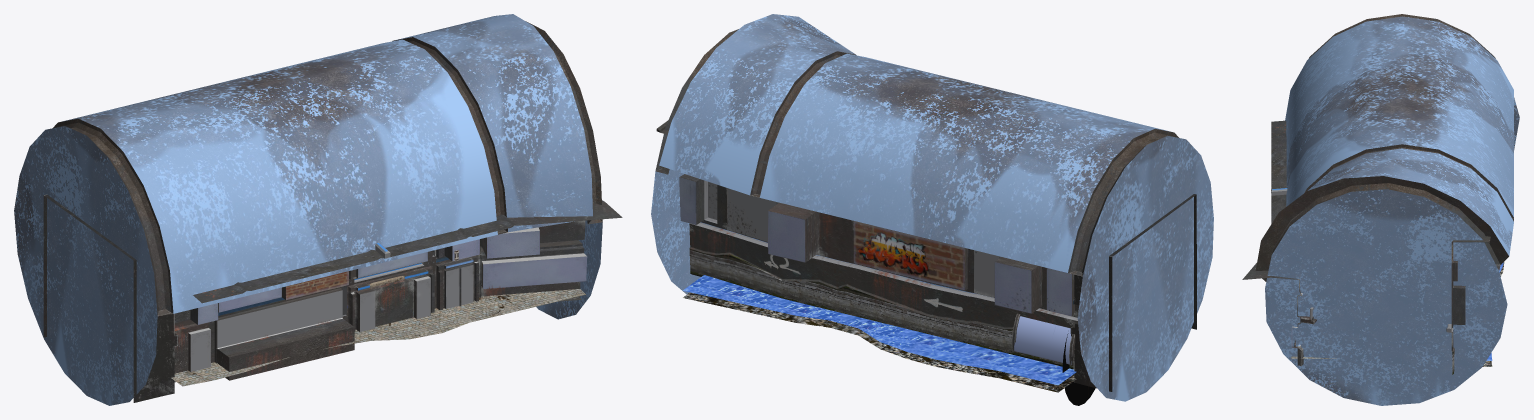
Rendered from cyberpunk one model.fbx.
3 views of the same model, side by side, from view 1: azimuth 30°, elevation 25°; view 2: azimuth 150°, elevation 25°; view 3: azimuth 270°, elevation 25° (orthographic). The views are drawn at different scales.
Parts seen in each view (by area): view 1: pCylinder29, BuildingSetLeft, AlleyGround, BackBuildingSet; view 2: pCylinder29, BuildingSetRight, WaterPlane, GroundUnderwater, BackBuildingSet, WallTunnel, WallTunnelDisc; view 3: pCylinder29, BuildingSetLeft, BuildingSetRight.
Part boxes in pixels (box(x1,y1,x2,y2)): pCylinder29: box(14, 14, 602, 405); BuildingSetLeft: box(174, 200, 622, 382); AlleyGround: box(171, 289, 585, 386); BackBuildingSet: box(43, 194, 178, 402); pCylinder29: box(651, 14, 1213, 401); BuildingSetRight: box(656, 120, 1078, 369); WaterPlane: box(682, 275, 1076, 385); GroundUnderwater: box(683, 292, 1076, 392); BackBuildingSet: box(1070, 194, 1196, 391); WallTunnel: box(1014, 316, 1075, 366); WallTunnelDisc: box(1062, 333, 1095, 405); pCylinder29: box(1255, 14, 1519, 405); BuildingSetLeft: box(1242, 120, 1316, 365); BuildingSetRight: box(1446, 236, 1490, 374).
Bounding box in the file's own units: 14926 × 8665 × 9535.
